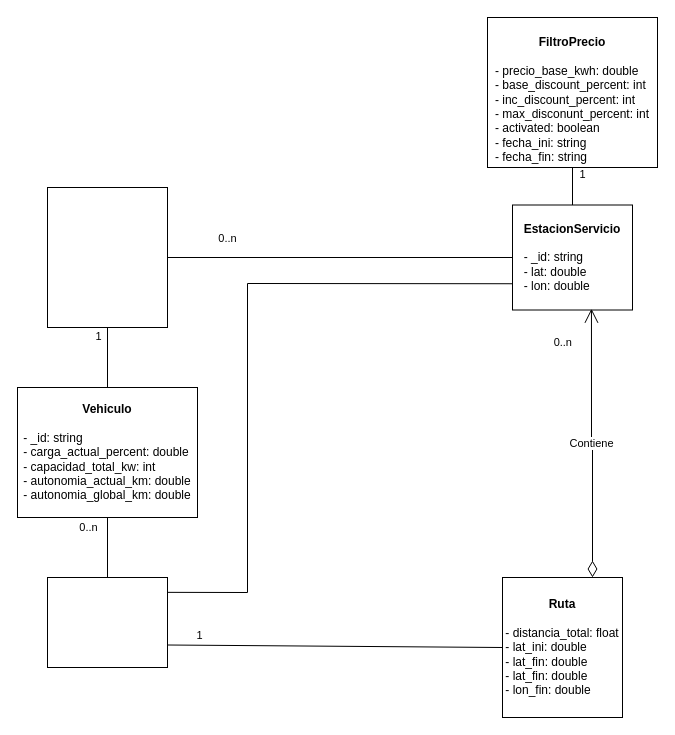
The diagram is 675 pixels wide and 735 high, and some of its shapes have lost their labels. The shapes that lost their labels are listed below. From the top down, each one's centre as x and y in pixels, then its label:
At (107,257): "<<enumeration>> TipoConector SCHUKO TIPO 1 TIPO2 CSS CHADEMO CARGA_RAPIDA".
At (107,622): "UsuarioParticular - _id: string".
